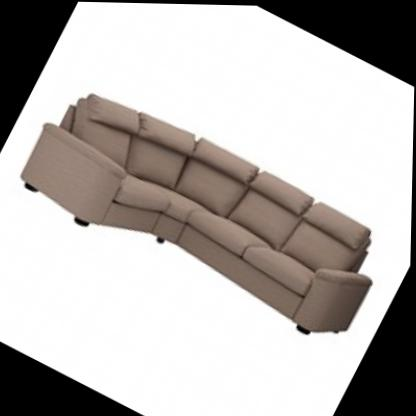Sofa: (0, 42, 414, 369)
